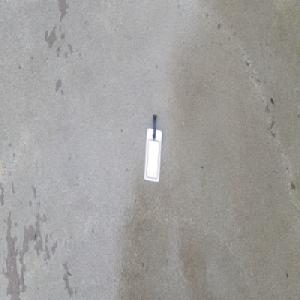LuggageTag: (143, 114, 163, 184)
